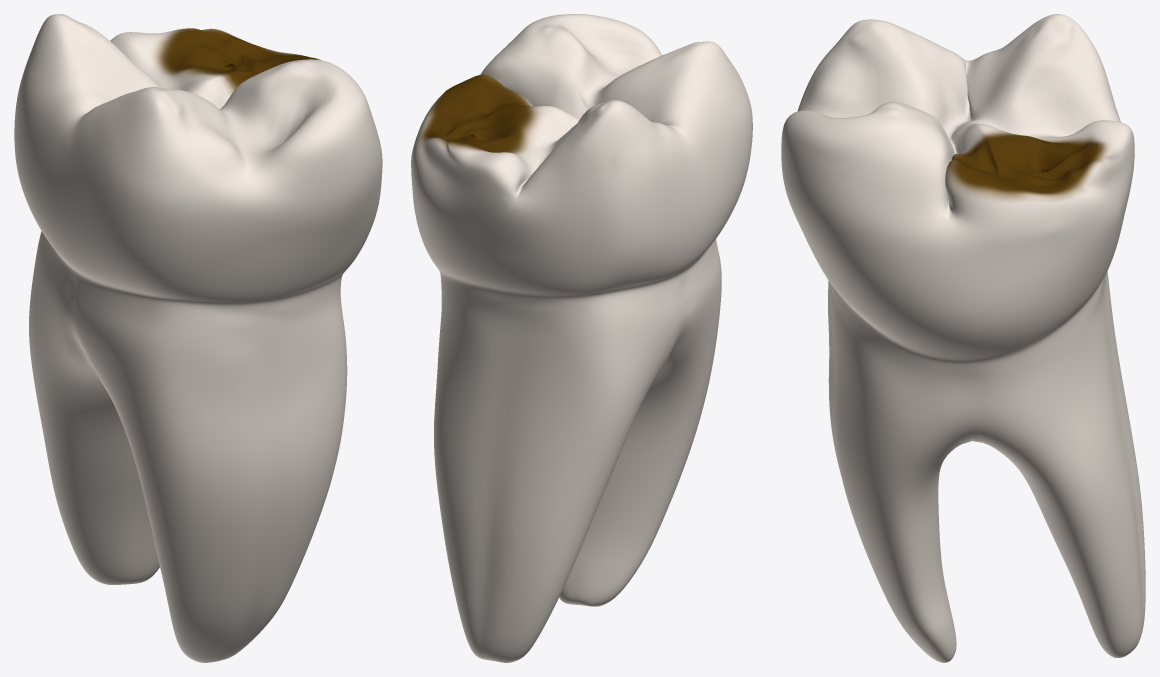
The model's file is Gigi 6.fbx.
3 renders of one model, left to right at view 1: azimuth 30°, elevation 25°; view 2: azimuth 150°, elevation 25°; view 3: azimuth 270°, elevation 25°, orthographic. The views are drawn at different scales.
Visible parts, largest first — view 1: Group35581.018; view 2: Group35581.018; view 3: Group35581.018.
Part boxes in pixels (x1,y1,x2,y2): Group35581.018: (14,14,382,662); Group35581.018: (411,14,752,662); Group35581.018: (781,14,1145,662).
Bounding box in the file's own units: 25.88 × 51.67 × 28.64.
1 material, 1 textured.
